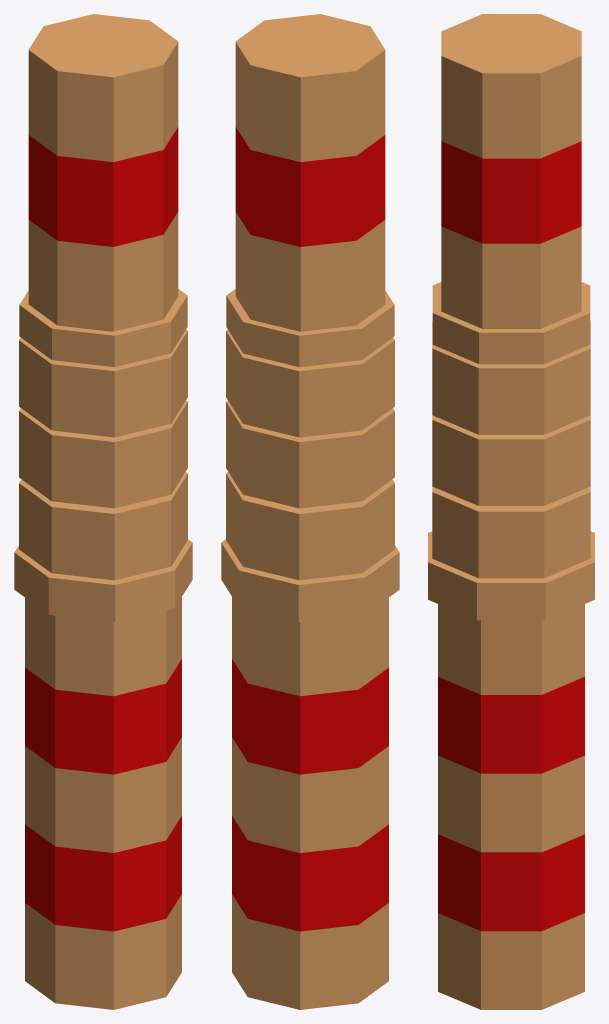
The model's file is LabyrinthPuzzleThing.fbx.
3 views of the same model, side by side, from view 1: azimuth 30°, elevation 25°; view 2: azimuth 150°, elevation 25°; view 3: azimuth 270°, elevation 25° (orthographic).
Visible parts, largest first — view 1: Cylinder, Cylinder.001, Cylinder.002, Cylinder.003; view 2: Cylinder, Cylinder.001, Cylinder.002, Cylinder.003; view 3: Cylinder, Cylinder.001, Cylinder.002, Cylinder.003.
Boxes of the visible parts, x1=… form: Cylinder: x1=14, y1=14, x2=192, y2=1009; Cylinder.001: x1=19, y1=472, x2=187, y2=580; Cylinder.002: x1=19, y1=400, x2=187, y2=508; Cylinder.003: x1=19, y1=329, x2=187, y2=437; Cylinder: x1=221, y1=14, x2=399, y2=1009; Cylinder.001: x1=226, y1=472, x2=394, y2=580; Cylinder.002: x1=226, y1=400, x2=394, y2=508; Cylinder.003: x1=226, y1=329, x2=394, y2=437; Cylinder: x1=428, y1=14, x2=594, y2=1009; Cylinder.001: x1=432, y1=486, x2=590, y2=578; Cylinder.002: x1=432, y1=415, x2=590, y2=505; Cylinder.003: x1=432, y1=321, x2=590, y2=434.
Size of the model in its own units: 210 by 210 by 1299.
